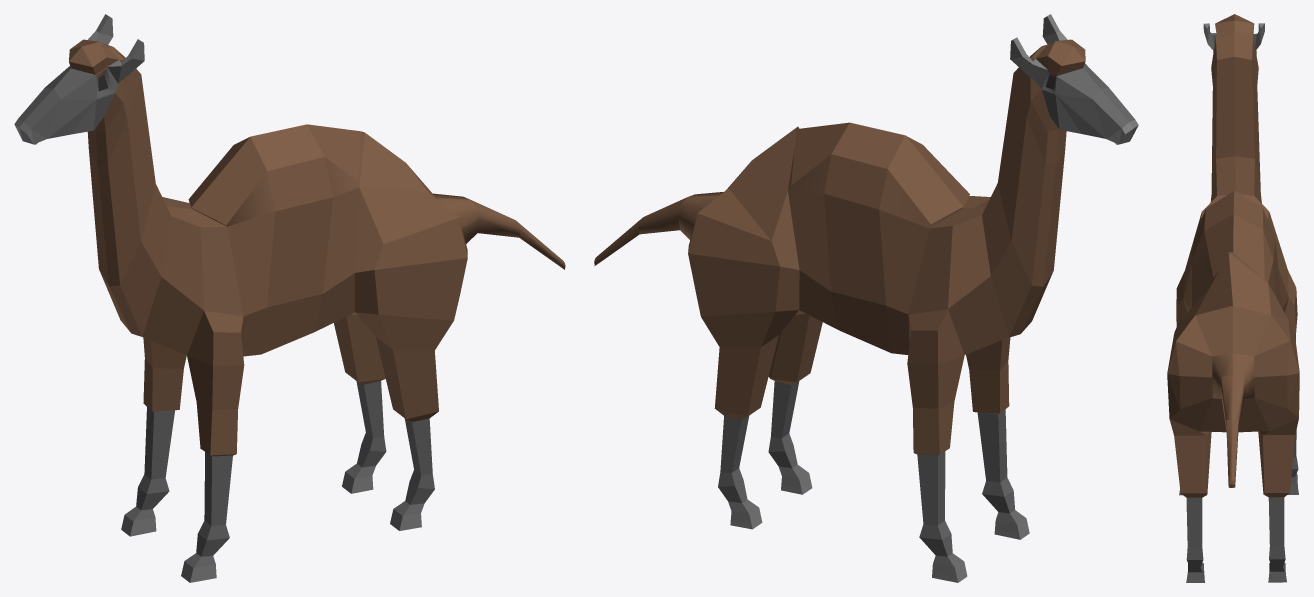
Rendered from camile.fbx.
The picture shows the model from 3 angles, left to right: view 1: azimuth 30°, elevation 25°; view 2: azimuth 150°, elevation 25°; view 3: azimuth 270°, elevation 25°; orthographic projection. The views are drawn at different scales.
Parts seen in each view (by area): view 1: Llama.001; view 2: Llama.001; view 3: Llama.001.
Boxes of the visible parts, left/top/right/bottom form: Llama.001: left=14, top=14, right=565, bottom=582; Llama.001: left=594, top=14, right=1138, bottom=582; Llama.001: left=1167, top=14, right=1299, bottom=582.
Size of the model in its own units: 755 by 724 by 193.
